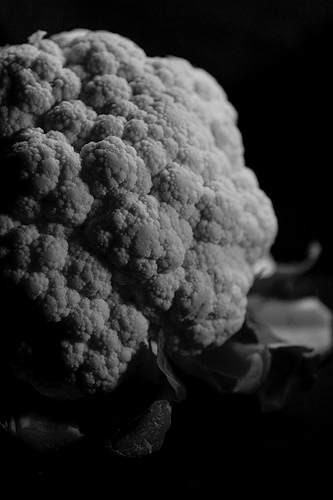cauliflower: (1, 27, 279, 398)
